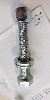FinishedAssembly: (7, 4, 40, 89)
